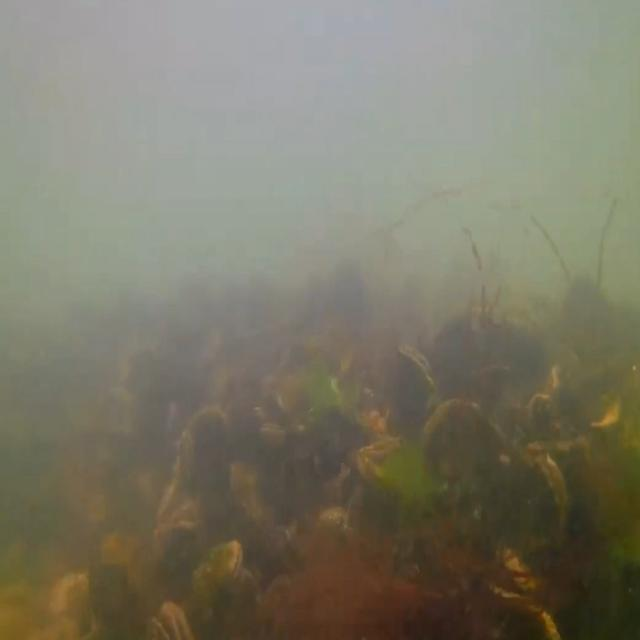Oyster-Closed: (397, 346, 439, 448), (352, 435, 418, 481), (192, 541, 245, 594), (259, 418, 292, 445)
Oyster-Indeterminate: (414, 400, 518, 497), (501, 446, 571, 539), (190, 407, 234, 522), (226, 456, 272, 551), (488, 583, 566, 633), (159, 429, 194, 522), (499, 544, 559, 591), (152, 501, 202, 547)
